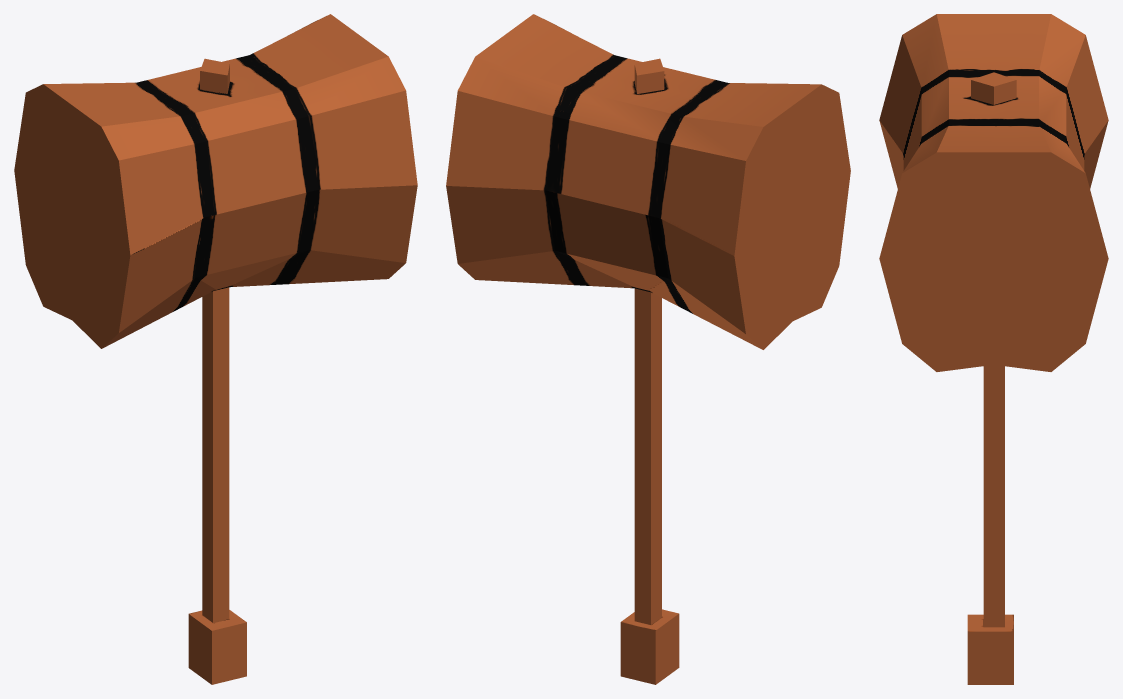
File: maRTELO.fbx
3 views of the same model, side by side, from view 1: azimuth 30°, elevation 25°; view 2: azimuth 150°, elevation 25°; view 3: azimuth 270°, elevation 25° (orthographic).
Parts seen in each view (by area): view 1: Cube; view 2: Cube; view 3: Cube.
Part boxes in pixels (x1,y1,x2,y2): Cube: [14, 14, 417, 684]; Cube: [446, 14, 850, 684]; Cube: [879, 14, 1108, 684].
Size of the model in its own units: 272 by 546 by 190.
Materials: 1 (1 with a texture image).
